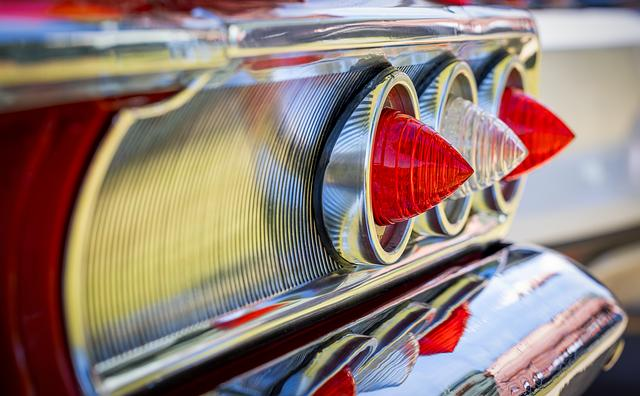Non_Gorille: (56, 14, 625, 396)
